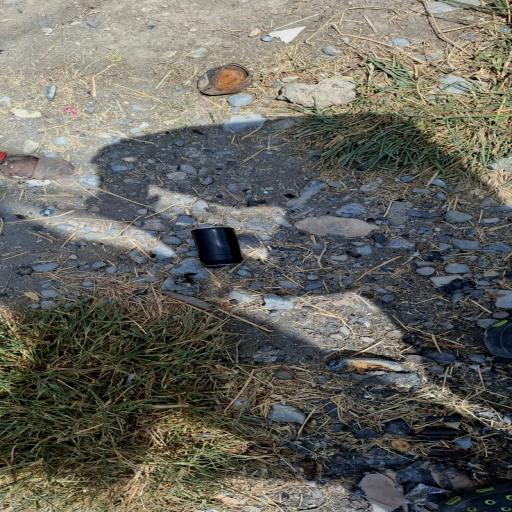LATA: (176, 217, 264, 275)
